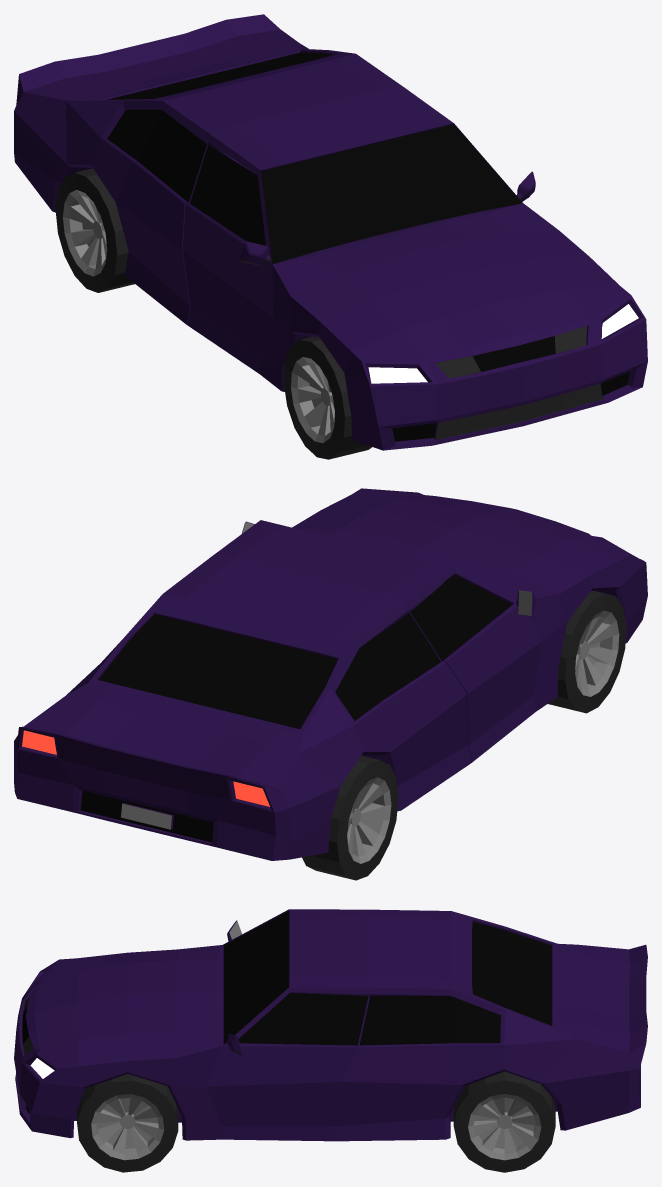
Rendered from purpleCar.glb.
The picture shows the model from 3 angles, top to bottom: view 1: azimuth 30°, elevation 25°; view 2: azimuth 150°, elevation 25°; view 3: azimuth 270°, elevation 25°; orthographic projection. The views are drawn at different scales.
Parts seen in each view (by area): view 1: Object_4, Object_5; view 2: Object_4, Object_6; view 3: Object_4.
Part boxes in pixels (left/top/right/bottom): Object_4: left=14, top=14, right=647, bottom=459; Object_5: left=368, top=304, right=638, bottom=383; Object_4: left=14, top=488, right=647, bottom=880; Object_6: left=22, top=730, right=269, bottom=806; Object_4: left=14, top=909, right=647, bottom=1172.
Bounding box in the file's own units: 1.63 × 1.1 × 3.68.
Materials: 3 (3 with a texture image).
